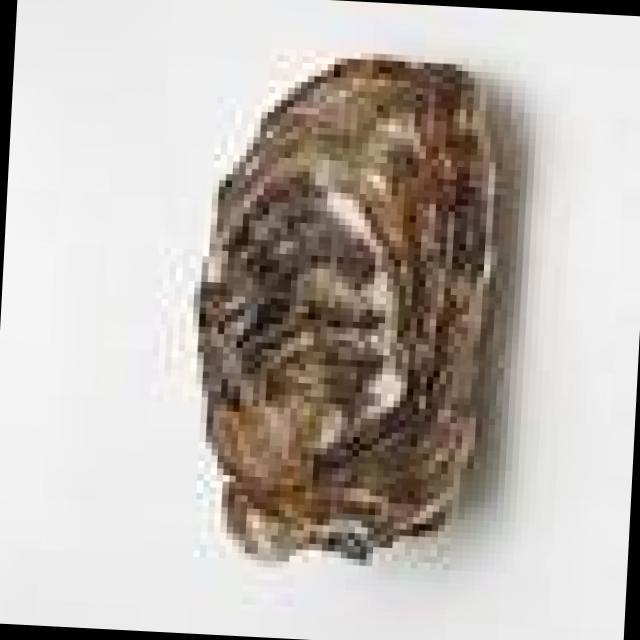Oyster- Indeterminate: (197, 57, 517, 566)
